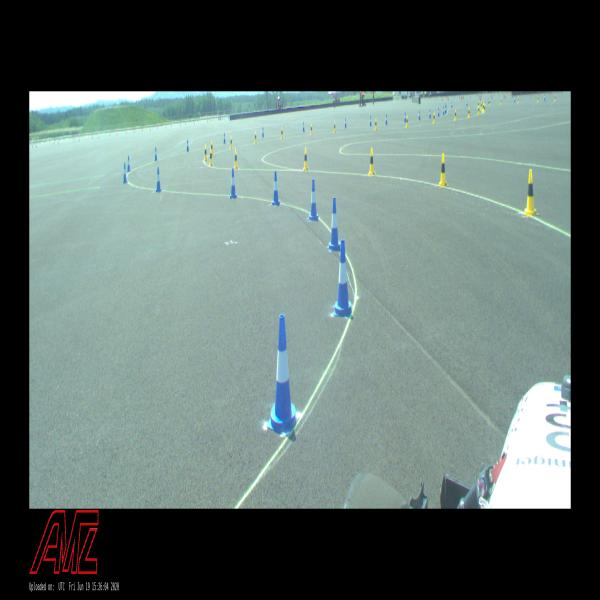blue_cone: (267, 314, 299, 435), (333, 240, 353, 318), (328, 198, 340, 252), (309, 179, 318, 221), (272, 171, 280, 207), (230, 168, 237, 199), (155, 167, 162, 193), (122, 162, 127, 184), (126, 155, 130, 172), (154, 146, 158, 161), (223, 132, 226, 145), (186, 139, 189, 152), (369, 115, 372, 126), (428, 108, 431, 118), (302, 122, 305, 132), (385, 114, 387, 125), (262, 127, 264, 138), (344, 117, 346, 128), (465, 99, 468, 106), (418, 110, 420, 120), (404, 112, 406, 121), (442, 106, 444, 114), (445, 105, 447, 112), (514, 96, 516, 102), (438, 108, 439, 115), (451, 101, 452, 108), (544, 94, 545, 100), (488, 98, 489, 104)
yellow_cone: (524, 168, 537, 217), (438, 153, 447, 187), (368, 147, 376, 176), (233, 148, 239, 170), (303, 148, 308, 172), (209, 149, 214, 167), (204, 145, 208, 162), (210, 141, 214, 156), (229, 135, 233, 150), (280, 126, 284, 140), (310, 123, 313, 136), (432, 112, 435, 125), (333, 121, 336, 134), (254, 132, 257, 143), (374, 118, 377, 129), (405, 115, 408, 126), (454, 109, 456, 122), (468, 107, 470, 119), (478, 105, 480, 114), (517, 97, 519, 103), (554, 95, 556, 101), (537, 96, 539, 102), (500, 98, 502, 104), (482, 101, 483, 111), (484, 104, 485, 114), (478, 100, 479, 108), (483, 104, 484, 112), (481, 102, 482, 110), (489, 100, 490, 106)
